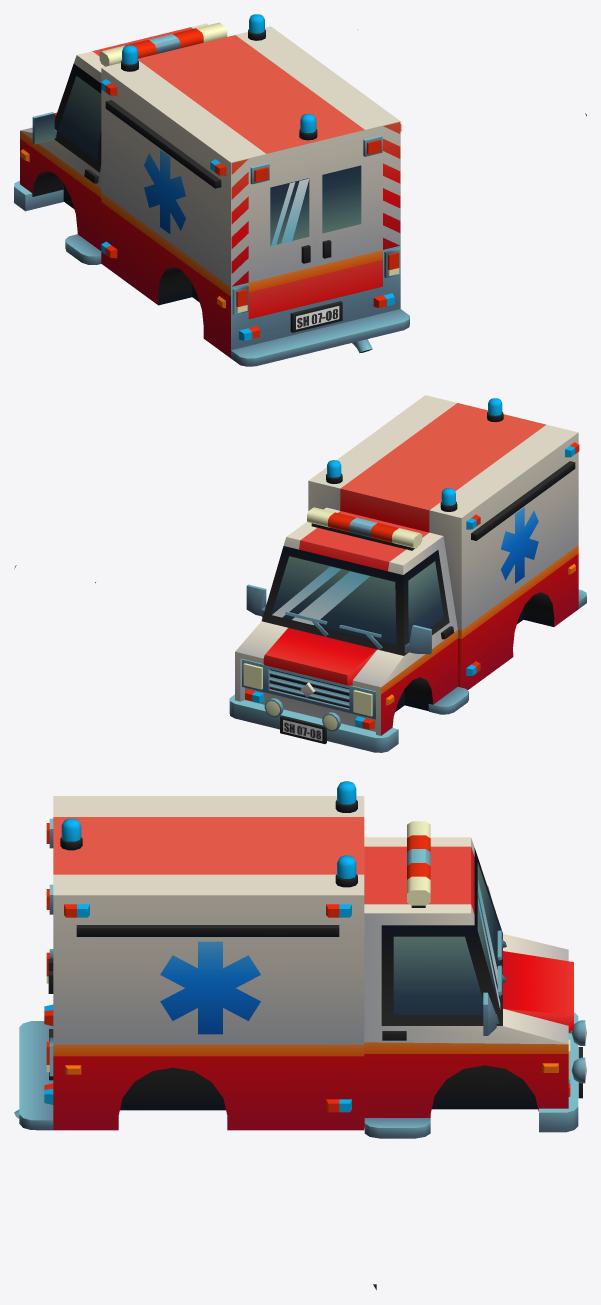
File: car6.glb
3 views of the same model, one above another, from view 1: azimuth 30°, elevation 25°; view 2: azimuth 150°, elevation 25°; view 3: azimuth 270°, elevation 25° (orthographic). The views are drawn at different scales.
Visible parts, largest first — view 1: model_5.009; view 2: model_5.009; view 3: model_5.009.
Boxes of the visible parts, x1,y1,x2,y2 form: model_5.009: (14, 14, 586, 366); model_5.009: (14, 395, 586, 752); model_5.009: (14, 781, 586, 1289).
Size of the model in its own units: 397 by 174 by 324.
Materials: 1 (1 with a texture image).
